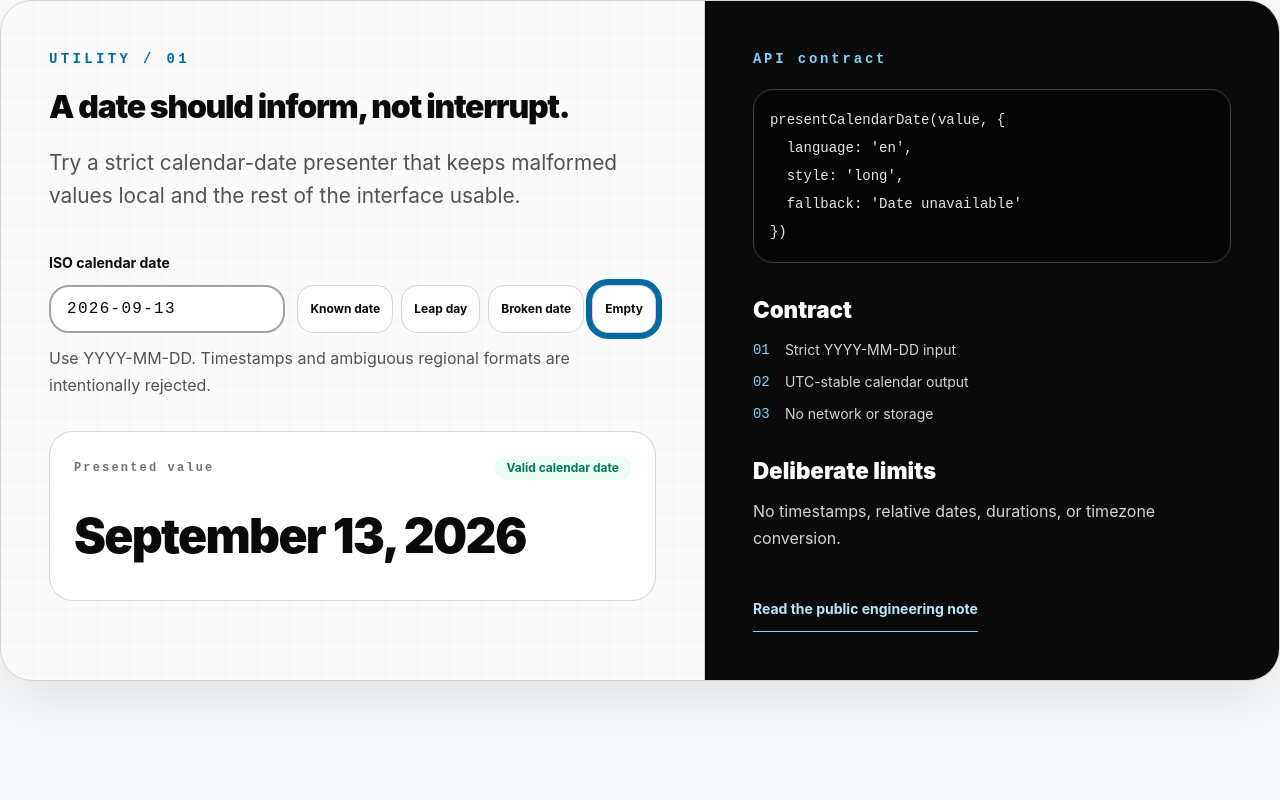
Scenario: DatePresentationDemo › offers labeled keyboard-native presets and an honest empty state
The image size is (1280, 800).
Click the button "Empty" at (624, 309), box left=592, top=285, right=656, bottom=333
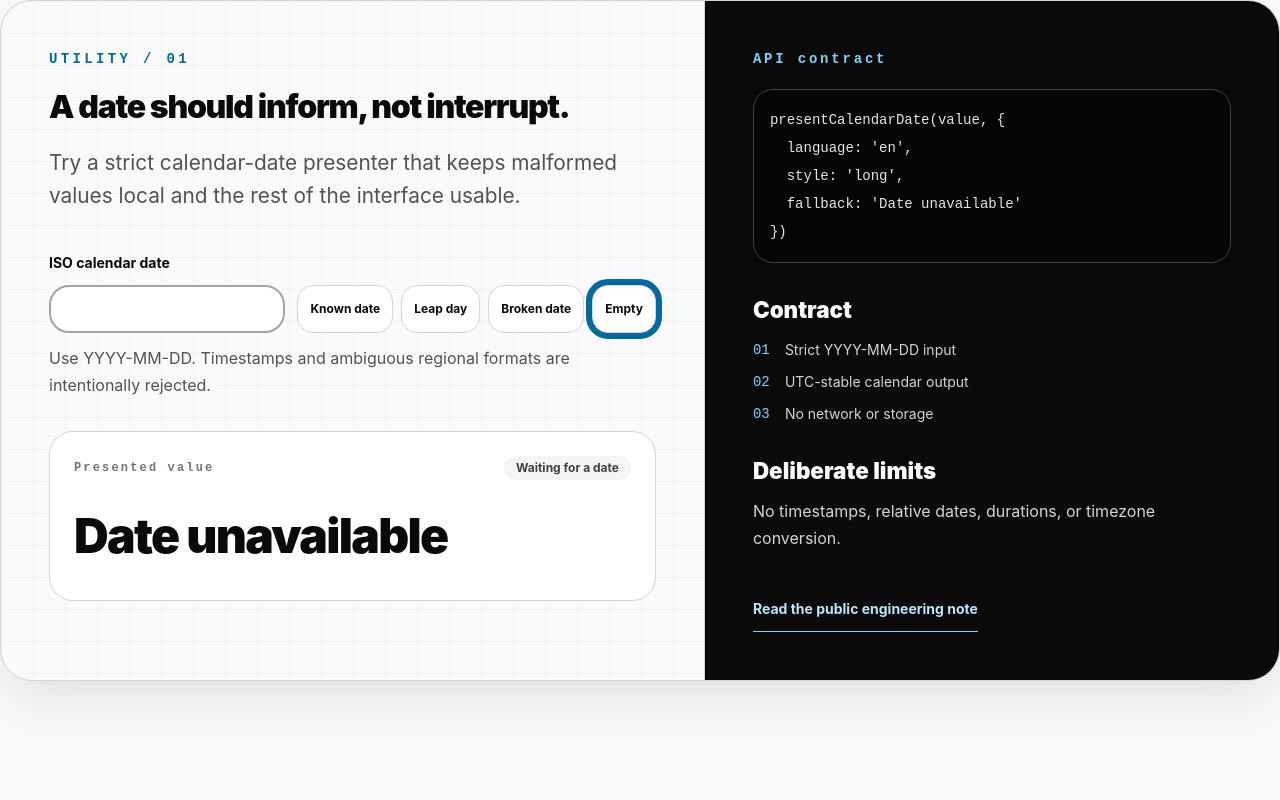
Check: the field labelled "ISO calendar date" is empty, box left=49, top=285, right=285, bottom=333
Check: the text "Waiting for a date" is shown, box left=504, top=456, right=631, bottom=480
